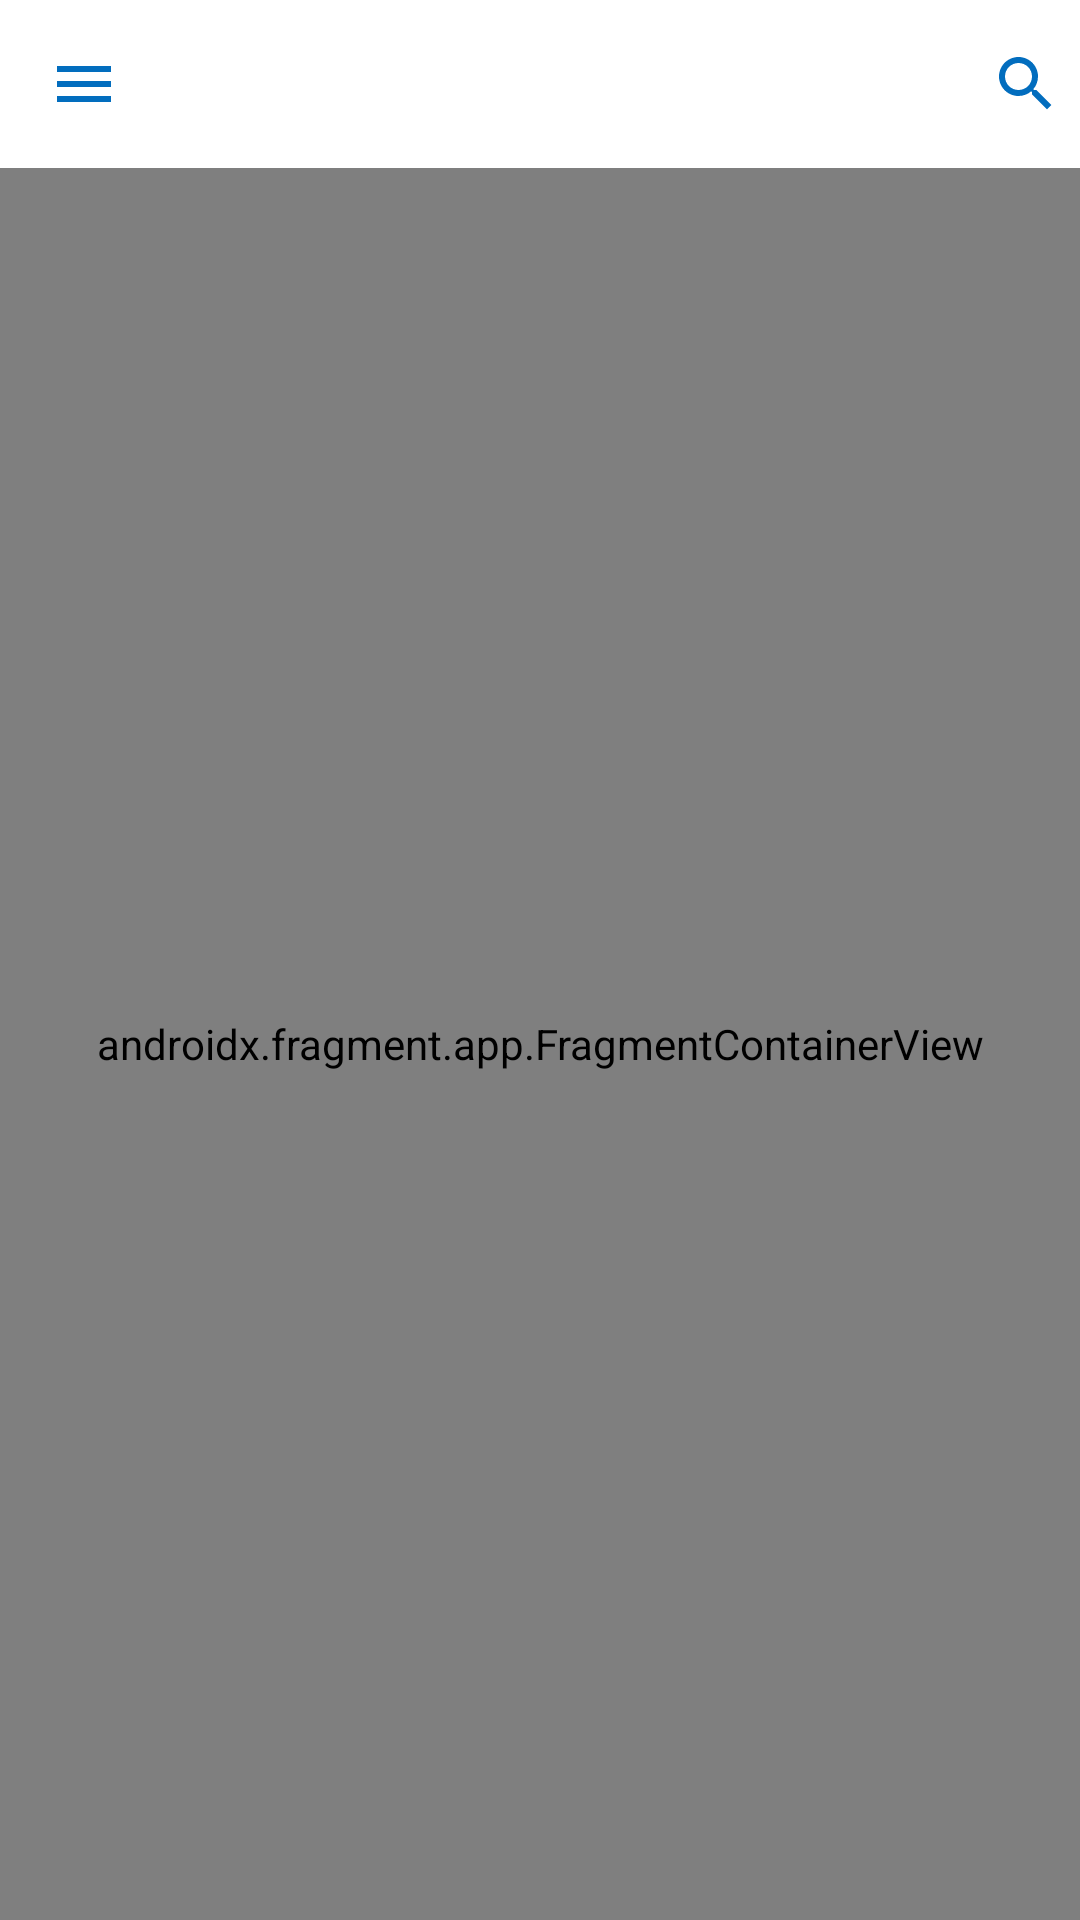

Icon click points for this 1080x1920 phone screenshot, format point (x, y):
menu: point (84, 84)
search: point (1025, 83)
